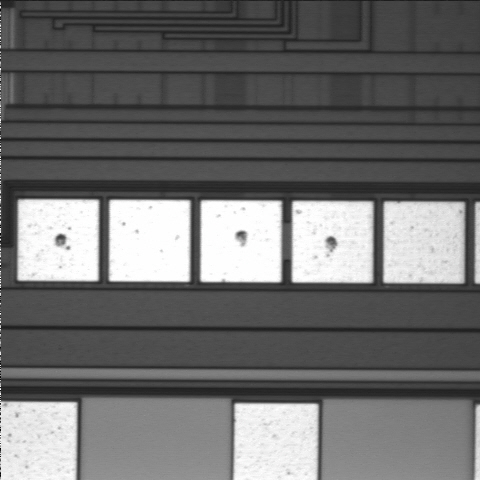pad: (200, 200, 282, 282), (18, 199, 99, 281), (109, 200, 190, 282), (292, 201, 373, 283), (383, 202, 464, 283)
